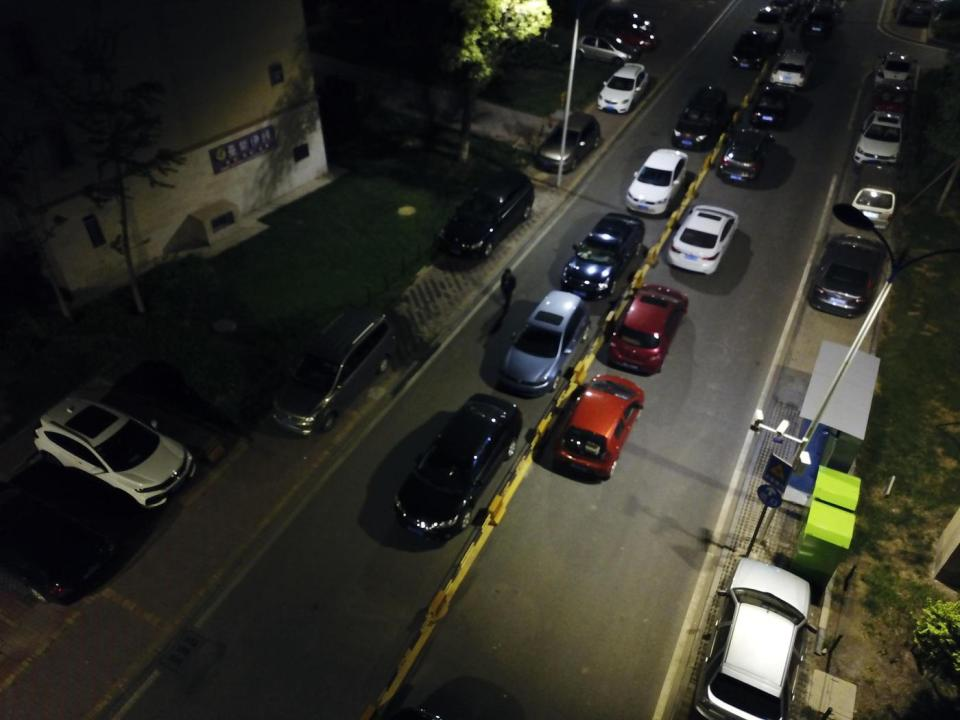car: (392, 393, 523, 543), (692, 557, 812, 720), (32, 398, 198, 511), (0, 488, 115, 604), (497, 291, 591, 399), (552, 372, 644, 481), (439, 171, 535, 259), (560, 211, 646, 301), (608, 284, 689, 376), (806, 232, 888, 320), (666, 204, 739, 276), (626, 147, 689, 217), (536, 112, 601, 173), (672, 84, 728, 151), (716, 127, 774, 182), (853, 110, 905, 168), (596, 61, 649, 115), (574, 32, 640, 65), (747, 84, 790, 129), (769, 46, 815, 88), (597, 24, 659, 53), (730, 28, 768, 71), (596, 9, 654, 36), (802, 2, 843, 40), (875, 53, 917, 88), (871, 84, 909, 120), (751, 5, 784, 40)
van: (273, 310, 396, 437), (848, 162, 898, 230)
